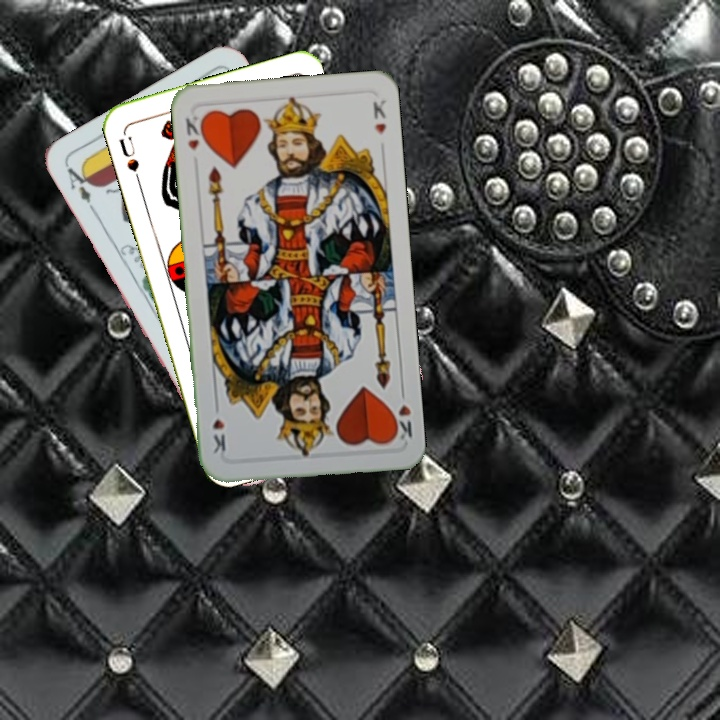EA: (63, 161, 99, 215)
HK: (387, 384, 415, 443), (182, 111, 208, 153)
SU: (115, 128, 143, 186)
